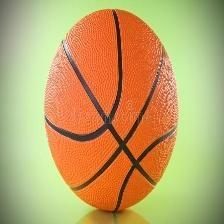Sports-Ball: (34, 12, 182, 211)
